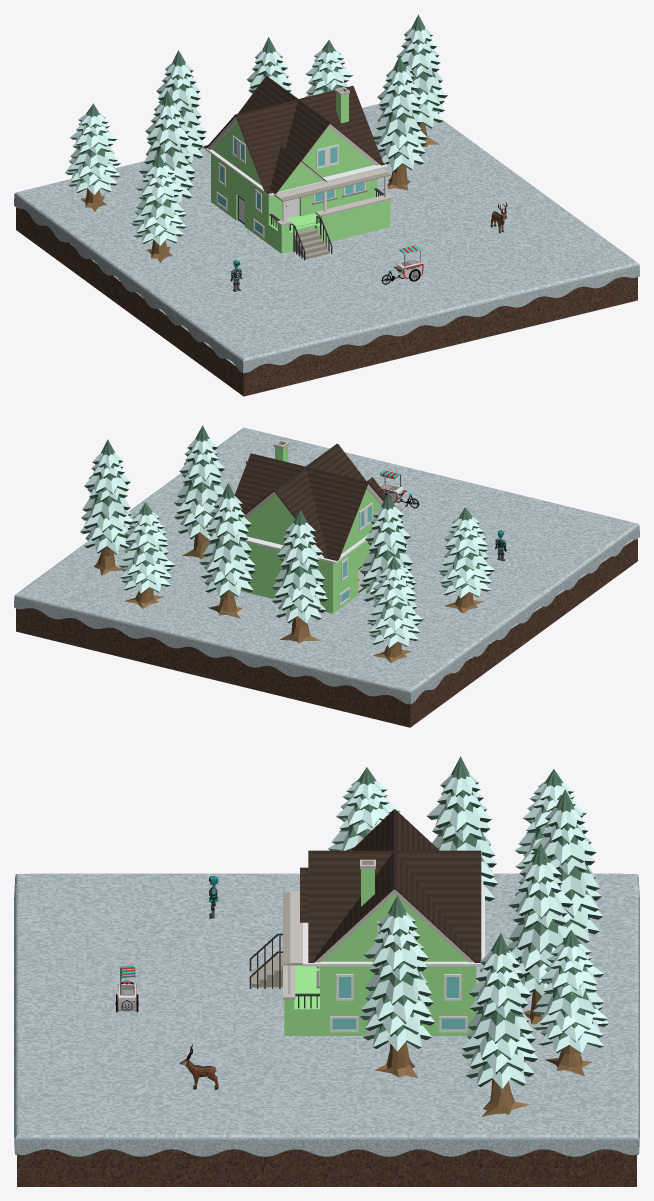
3 views of the same model, one above another, from view 1: azimuth 30°, elevation 25°; view 2: azimuth 150°, elevation 25°; view 3: azimuth 270°, elevation 25° (orthographic). The views are drawn at different scales.
Visible parts, largest first — view 1: Cube.003, Cube.274, VEHICLES_SNOWBAL_BIKE; view 2: Cube.003, Cube.274, VEHICLES_SNOWBAL_BIKE; view 3: Cube.003, Cube.274, VEHICLES_SNOWBAL_BIKE.
Boxes of the visible parts, x1,y1,x2,y2 form: Cube.003: (14,14,639,396); Cube.274: (202,76,393,260); VEHICLES_SNOWBAL_BIKE: (381,245,423,284); Cube.003: (14,425,639,727); Cube.274: (235,440,405,613); VEHICLES_SNOWBAL_BIKE: (379,470,419,508); Cube.003: (14,756,639,1186); Cube.274: (249,809,484,1035); VEHICLES_SNOWBAL_BIKE: (115,965,138,1012).
Bounding box in the file's own units: 4040 × 1670 × 4040.
Materials: 37 (3 with a texture image).
